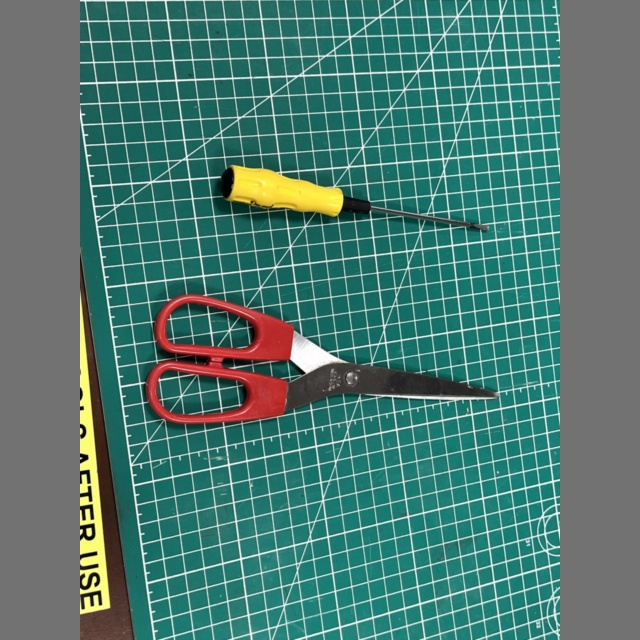scissor: (146, 294, 499, 423)
screwdriver: (221, 166, 489, 231)
